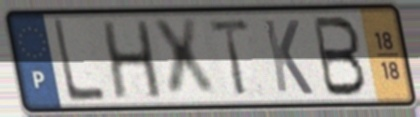B: (311, 14, 370, 99)
H: (99, 18, 166, 102)
K: (260, 16, 316, 98)
L: (49, 16, 108, 105)
T: (207, 17, 253, 100)
X: (147, 16, 220, 103)
